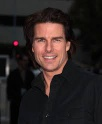male: (25, 7, 79, 76)
